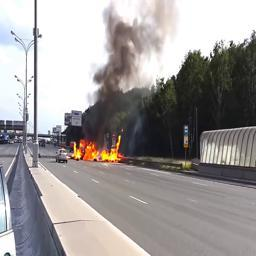fire: (72, 135, 126, 163)
